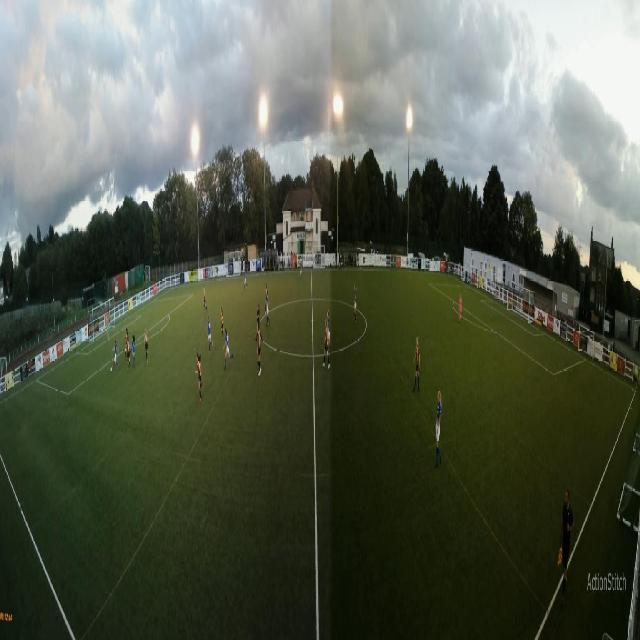ball: (110, 365, 112, 373)
player: (434, 388, 442, 468), (413, 334, 421, 393), (195, 351, 204, 402), (322, 319, 331, 369), (224, 327, 234, 371), (256, 321, 262, 377), (255, 303, 262, 341), (207, 317, 213, 355), (113, 338, 119, 372), (353, 284, 358, 323), (264, 282, 270, 314), (327, 308, 331, 356), (144, 329, 149, 364), (220, 306, 225, 341), (127, 335, 131, 373), (266, 290, 270, 327), (243, 266, 248, 292), (132, 335, 136, 367), (458, 293, 462, 325), (203, 286, 207, 314), (125, 328, 128, 360), (299, 260, 303, 284), (106, 319, 110, 341)
